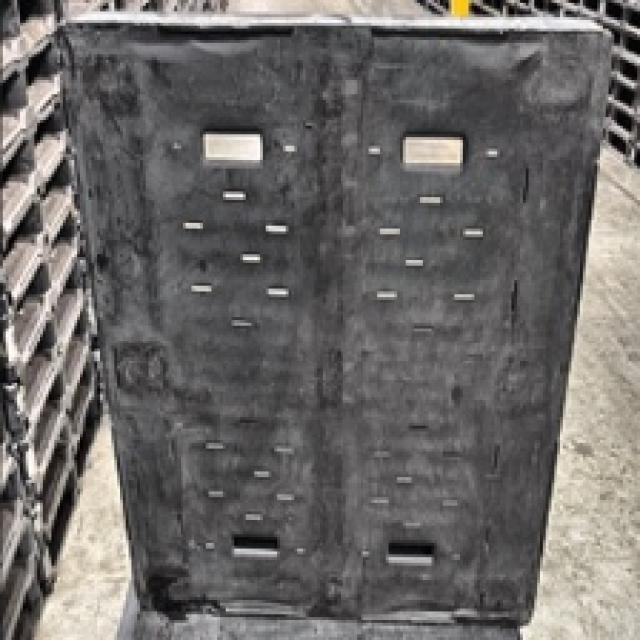igps: (38, 5, 629, 633)
